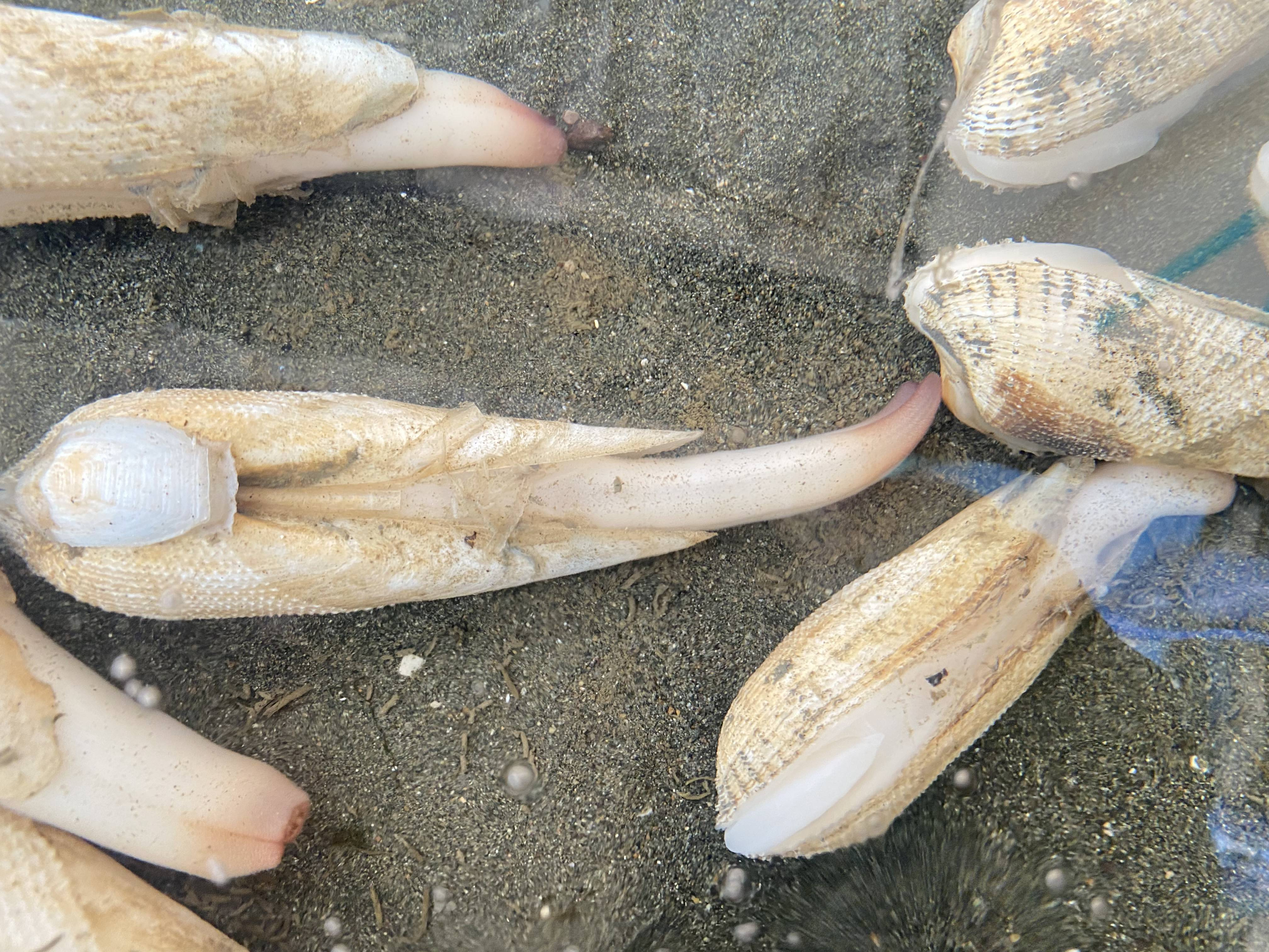Healthy: (0, 375, 941, 620), (718, 460, 1235, 856), (0, 4, 564, 230), (5, 609, 308, 878)
